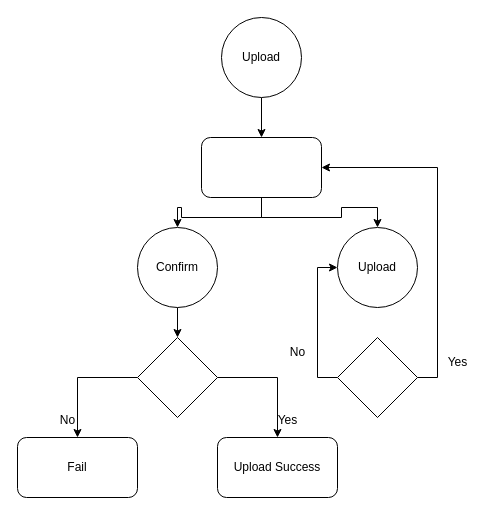
Some shapes in this 495 by 515 pixel diagram are drawn without their labels. The box of each missing label's shape, as (x1, y1, x2, y2) in pixels:
CSV, Excel: (336, 336, 418, 418)
Data of user selected: (200, 136, 322, 198)
Success: (136, 336, 218, 418)
